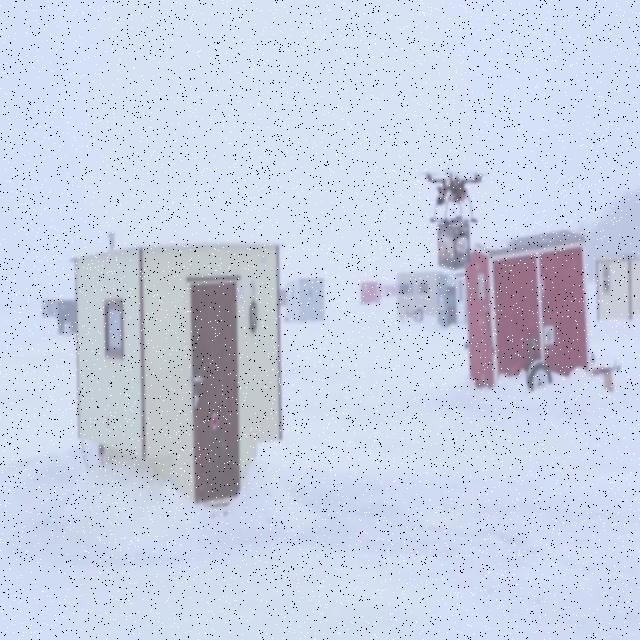UAV: (420, 170, 482, 223)
